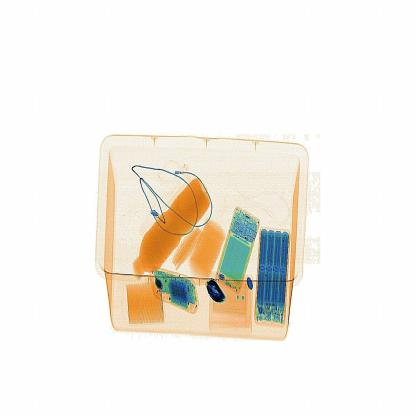scissors: (199, 266, 232, 314)
